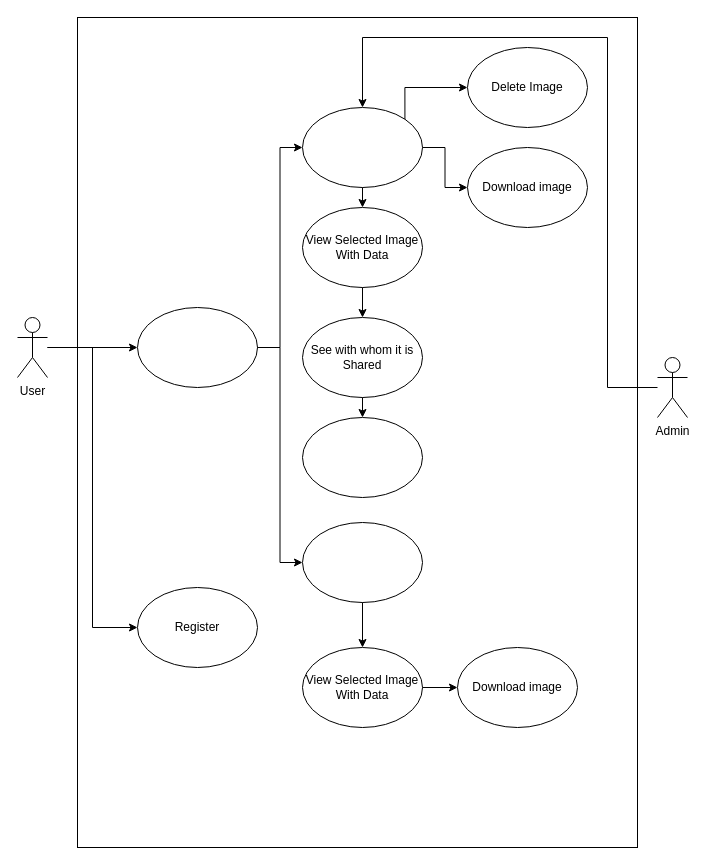
Some shapes in this 707 by 865 pixel diagram are drawn without their labels. The centre of each missing label's shape, as x and y in pixels:
"Login" goes at pixel 197 347.
"Share or Unshare Image" goes at pixel 362 457.
"View All Uploaded Images" goes at pixel 362 147.
"View Images That are Shared With me" goes at pixel 362 562.
